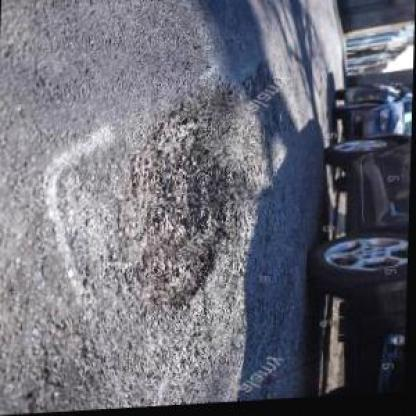pothole: (115, 85, 240, 319)
